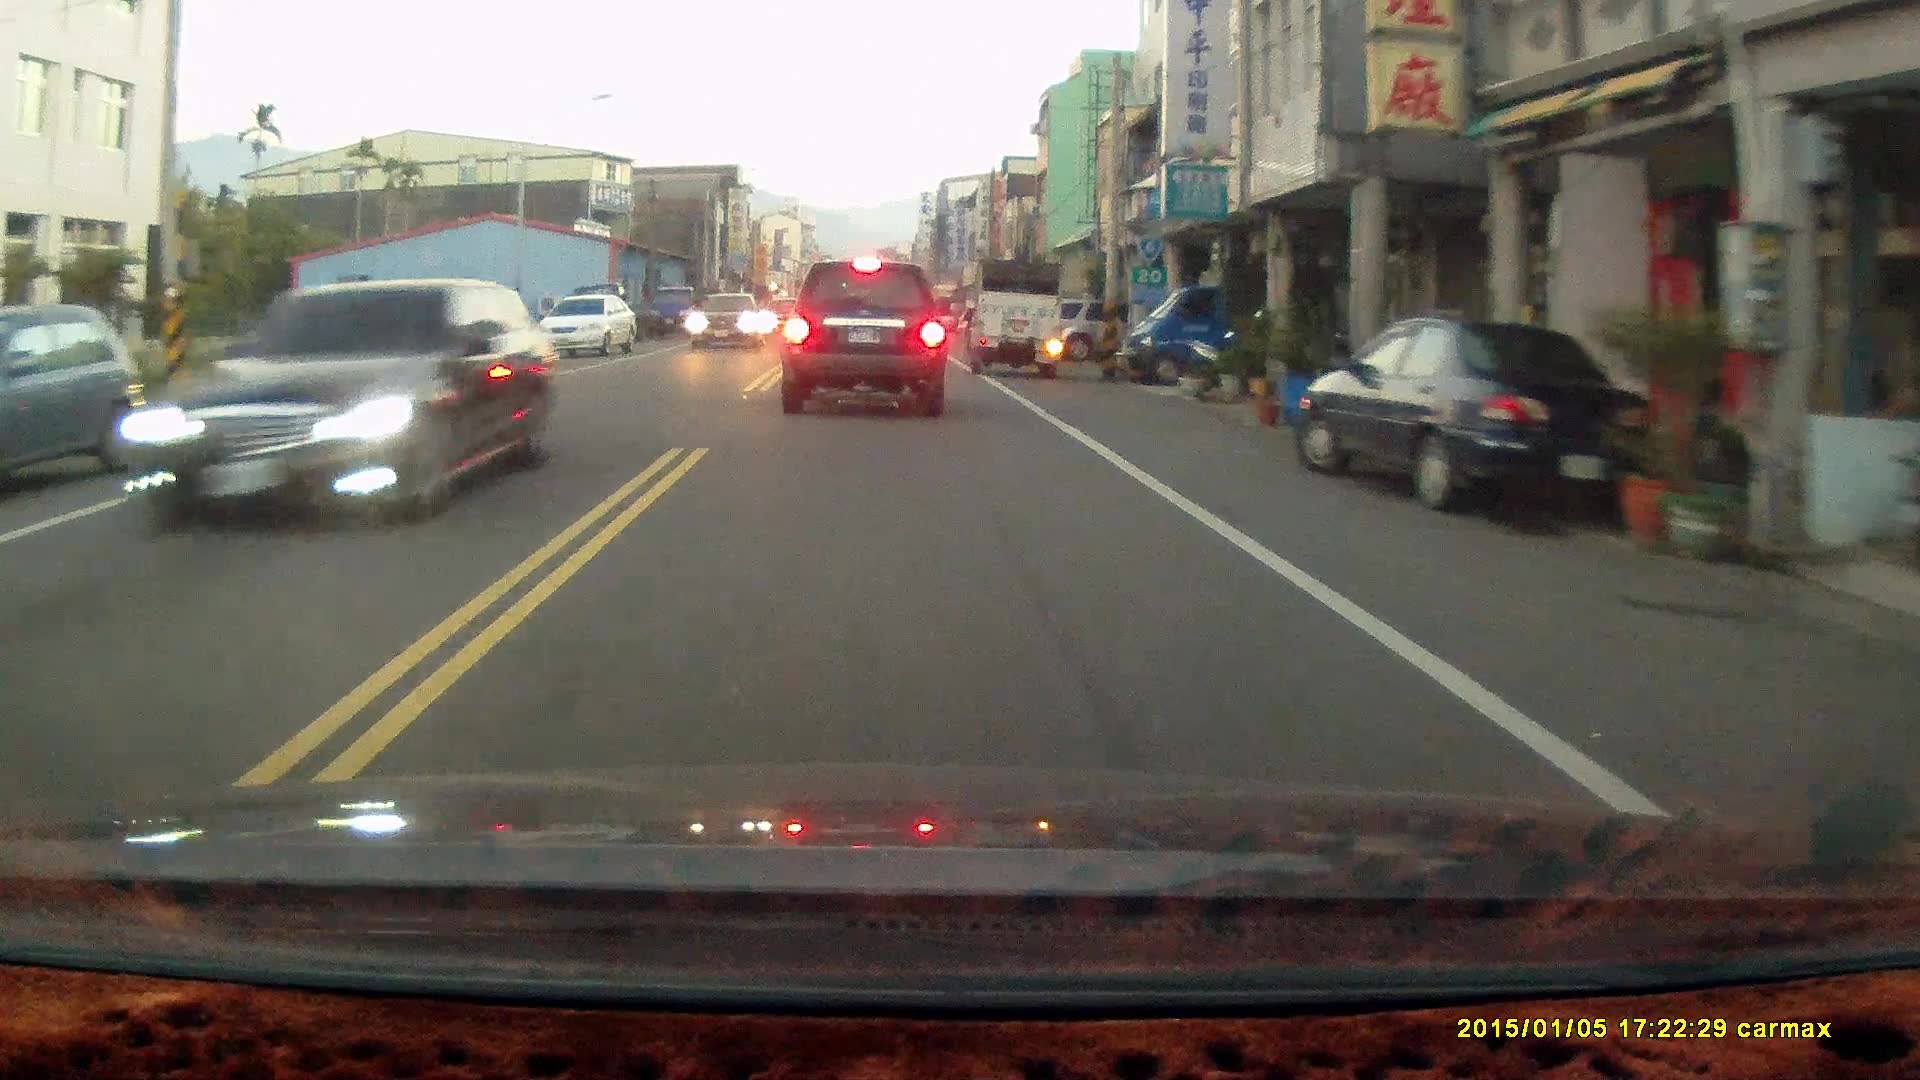vehicle: (105, 280, 549, 531), (1291, 316, 1673, 522), (1, 303, 146, 497), (783, 256, 948, 414), (1116, 262, 1269, 385), (968, 257, 1065, 376), (535, 290, 640, 359), (694, 293, 770, 349), (645, 282, 705, 338)
